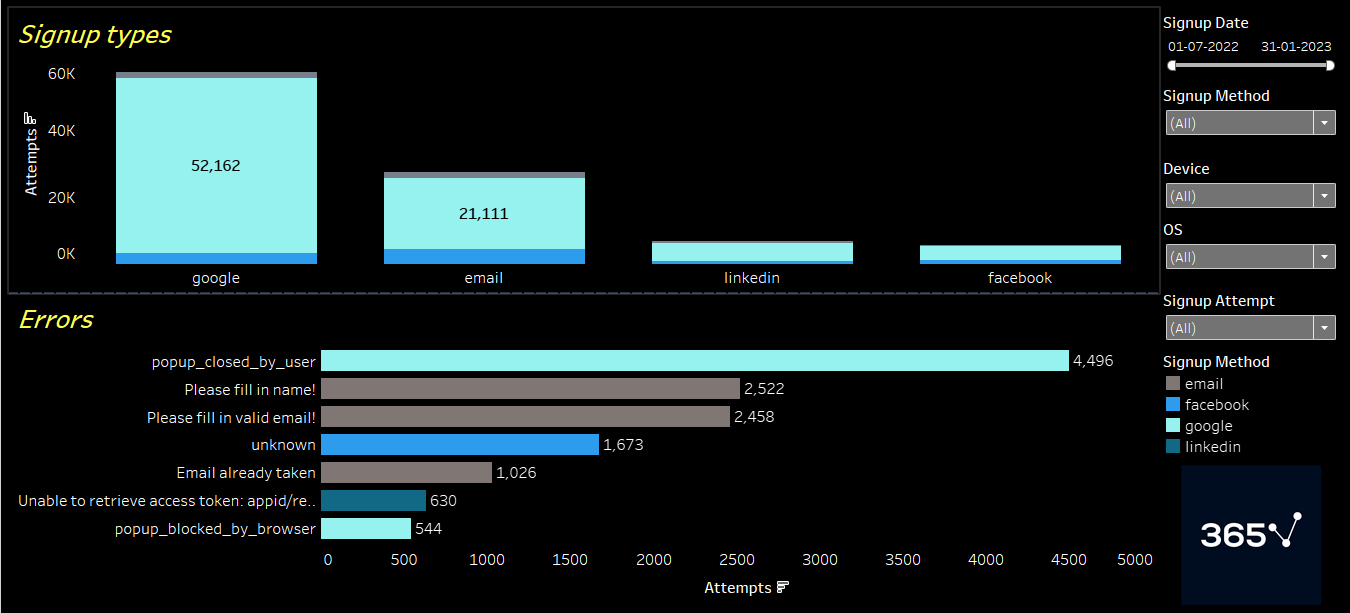

This screenshot's page, from the dashboard's own definition file:
{"tool":"tableau","page":{"name":"Dashboard 2","canvas":[1350,617],"ordinal":1},"visuals":[{"type":"worksheet","title":"Signup types","mark":"Automatic","rows":["Calculation_495395959871774722"],"cols":["signup_method"],"box":[8,8,1150,285]},{"type":"filter","title":"Signup types","param":"[federated.1qsjbwr0db1gss15xbih71pdf0zh].[none:signup_date:qk]","box":[1158,8,184,73]},{"type":"filter","title":"Signup types","param":"[federated.1qsjbwr0db1gss15xbih71pdf0zh].[none:signup_method:nk]","box":[1158,81,184,73]},{"type":"filter","title":"Signup types","param":"[federated.1qsjbwr0db1gss15xbih71pdf0zh].[none:device:nk]","box":[1158,154,184,61]},{"type":"filter","title":"Signup types","param":"[federated.1qsjbwr0db1gss15xbih71pdf0zh].[Session Os (group)]","box":[1158,215,184,71]},{"type":"filter","title":"Signup types","param":"[federated.1qsjbwr0db1gss15xbih71pdf0zh].[none:signup_attempt:nk]","box":[1158,286,184,61]},{"type":"worksheet","title":"Errors","mark":"Automatic","cols":["Calculation_495395959871774722"],"box":[8,293,1150,316]},{"type":"legend","title":"Errors","param":"[federated.1qsjbwr0db1gss15xbih71pdf0zh].[none:signup_method:nk]","box":[1158,347,184,114]},{"type":"image","param":"C:/Users/singh/Downloads/sql+tableau.twb Files/Image/0x0.png","box":[1158,461,184,148]}]}

Visuals, with their boxes in screenshot pixels (x1, y1, x2, y2), scaled from the page's 1350x617 canvas onto the 1350x613 screenshot:
"Signup types" worksheet: {"left": 8, "top": 8, "right": 1158, "bottom": 291}
"Signup types" filter: {"left": 1158, "top": 8, "right": 1342, "bottom": 80}
"Signup types" filter: {"left": 1158, "top": 80, "right": 1342, "bottom": 153}
"Signup types" filter: {"left": 1158, "top": 153, "right": 1342, "bottom": 214}
"Signup types" filter: {"left": 1158, "top": 214, "right": 1342, "bottom": 284}
"Signup types" filter: {"left": 1158, "top": 284, "right": 1342, "bottom": 345}
"Errors" worksheet: {"left": 8, "top": 291, "right": 1158, "bottom": 605}
"Errors" legend: {"left": 1158, "top": 345, "right": 1342, "bottom": 458}
image: {"left": 1158, "top": 458, "right": 1342, "bottom": 605}
